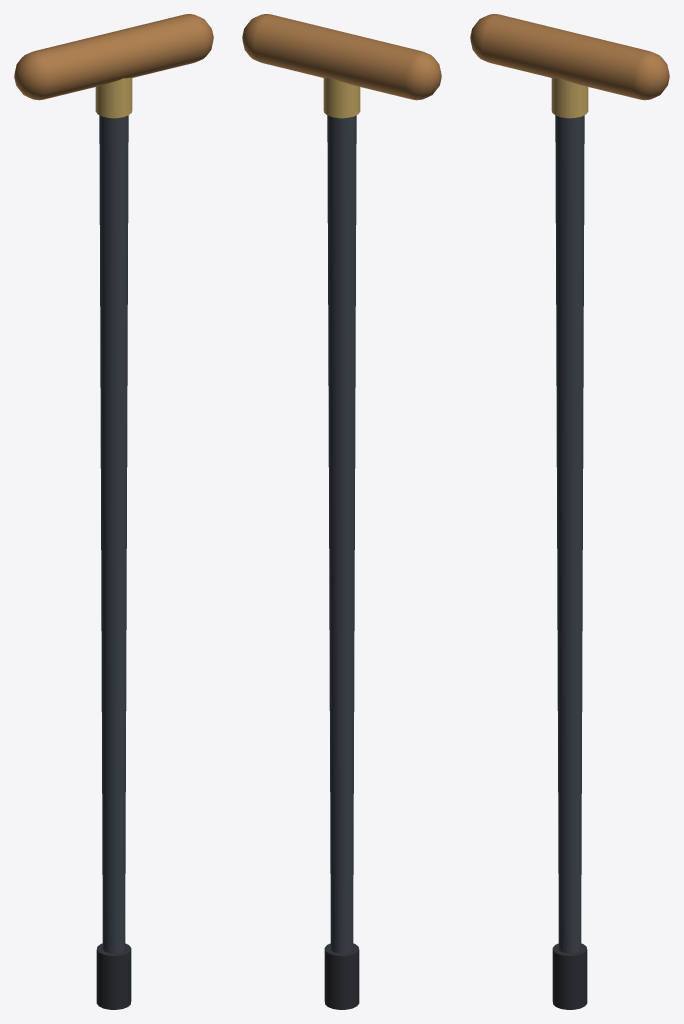
The model's file is cane_t_handle.glb.
3 views of the same model, side by side, from view 1: azimuth 30°, elevation 25°; view 2: azimuth 150°, elevation 25°; view 3: azimuth 330°, elevation 25° (orthographic).
Parts seen in each view (by area): view 1: TCane_Tapered_Shaft, TCane_Horizontal_Grip, TCane_Rubber_Ferrule, TCane_Left_Grip_End, TCane_Collar, TCane_Right_Grip_End; view 2: TCane_Tapered_Shaft, TCane_Horizontal_Grip, TCane_Rubber_Ferrule, TCane_Left_Grip_End, TCane_Collar, TCane_Right_Grip_End; view 3: TCane_Tapered_Shaft, TCane_Horizontal_Grip, TCane_Rubber_Ferrule, TCane_Right_Grip_End, TCane_Collar, TCane_Left_Grip_End.
Boxes of the visible parts, left/top/right/bottom form: TCane_Tapered_Shaft: left=99, top=115, right=128, bottom=953; TCane_Horizontal_Grip: left=34, top=14, right=201, bottom=99; TCane_Rubber_Ferrule: left=96, top=943, right=131, bottom=1009; TCane_Left_Grip_End: left=14, top=51, right=50, bottom=100; TCane_Collar: left=95, top=77, right=132, bottom=118; TCane_Right_Grip_End: left=184, top=14, right=213, bottom=62; TCane_Tapered_Shaft: left=327, top=115, right=356, bottom=953; TCane_Horizontal_Grip: left=254, top=14, right=421, bottom=99; TCane_Rubber_Ferrule: left=324, top=943, right=359, bottom=1009; TCane_Left_Grip_End: left=405, top=51, right=441, bottom=100; TCane_Collar: left=323, top=77, right=360, bottom=118; TCane_Right_Grip_End: left=242, top=14, right=271, bottom=62; TCane_Tapered_Shaft: left=555, top=115, right=584, bottom=953; TCane_Horizontal_Grip: left=482, top=14, right=649, bottom=99; TCane_Rubber_Ferrule: left=552, top=943, right=587, bottom=1009; TCane_Right_Grip_End: left=633, top=51, right=669, bottom=100; TCane_Collar: left=551, top=77, right=588, bottom=118; TCane_Left_Grip_End: left=470, top=14, right=499, bottom=62.
Size of the model in its own units: 0.18 by 0.861 by 0.04.
